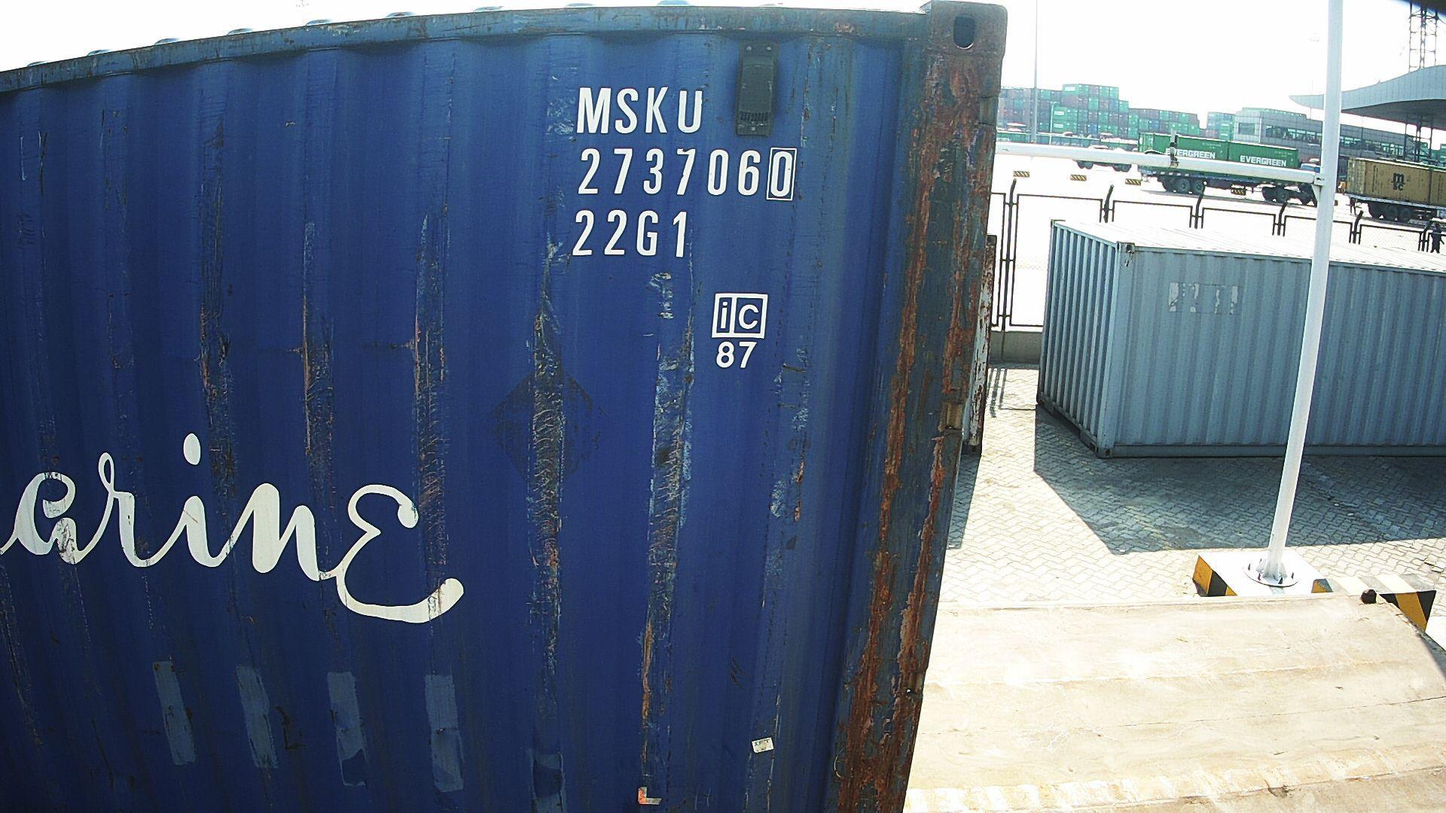container-numbers: (572, 145, 798, 203), (575, 82, 711, 138), (568, 206, 691, 261)
